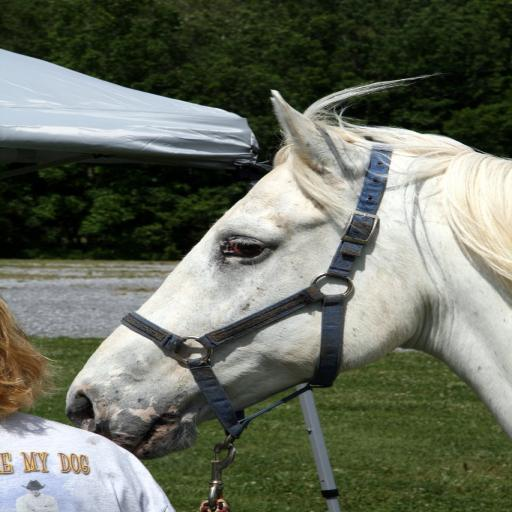horse: (62, 72, 511, 458)
